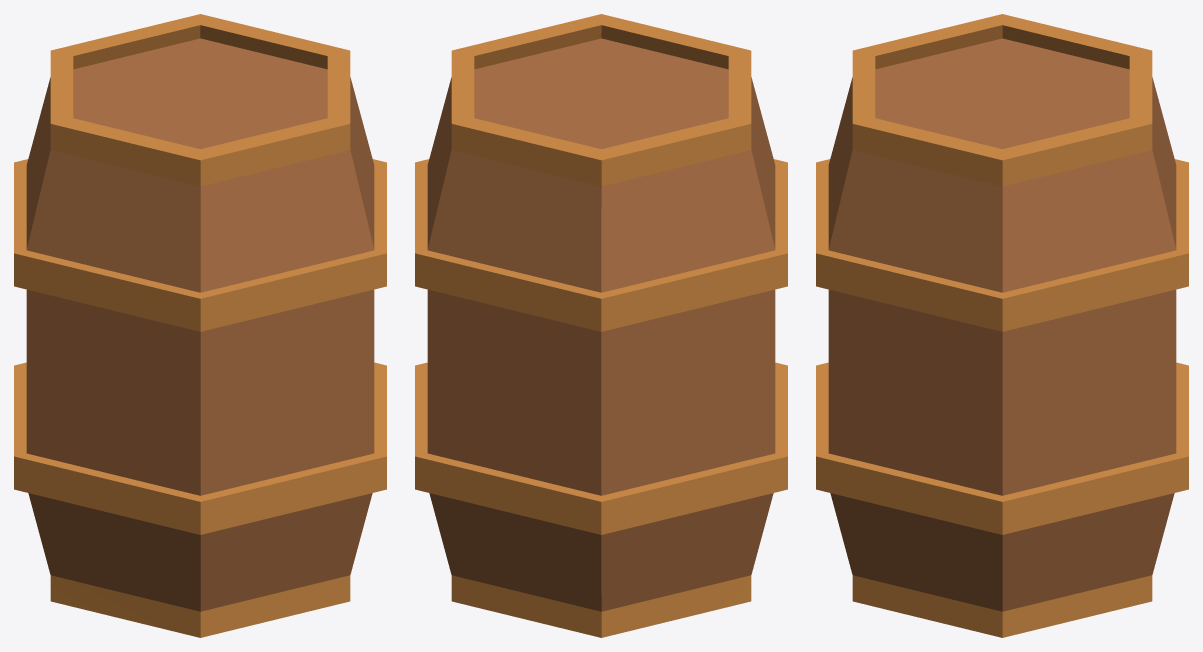
Rendered from Barrel_G.fbx.
3 renders of one model, left to right at view 1: azimuth 30°, elevation 25°; view 2: azimuth 150°, elevation 25°; view 3: azimuth 270°, elevation 25°, orthographic.
Visible parts, largest first — view 1: Barrel_02; view 2: Barrel_02; view 3: Barrel_02.
Part boxes in pixels (<box>): Barrel_02: <box>14,14,386,637</box>; Barrel_02: <box>415,14,787,637</box>; Barrel_02: <box>816,14,1188,637</box>.
Size of the model in its own units: 122 by 150 by 106.
